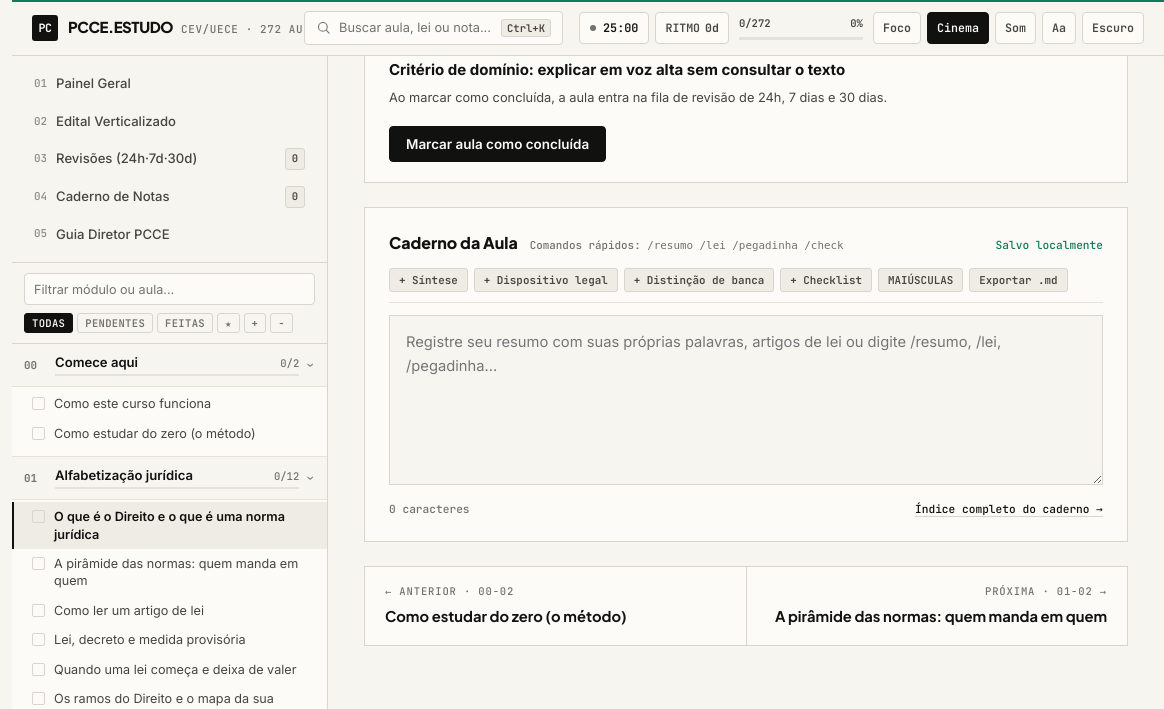
Test case: Tela de aula › expande comando rápido no caderno e salva a nota
(page scrolled)
Replace the text in the text box named "Anotações da aula" with "Ideia /check ". click: (746, 400)
box: [389,315,1103,485]
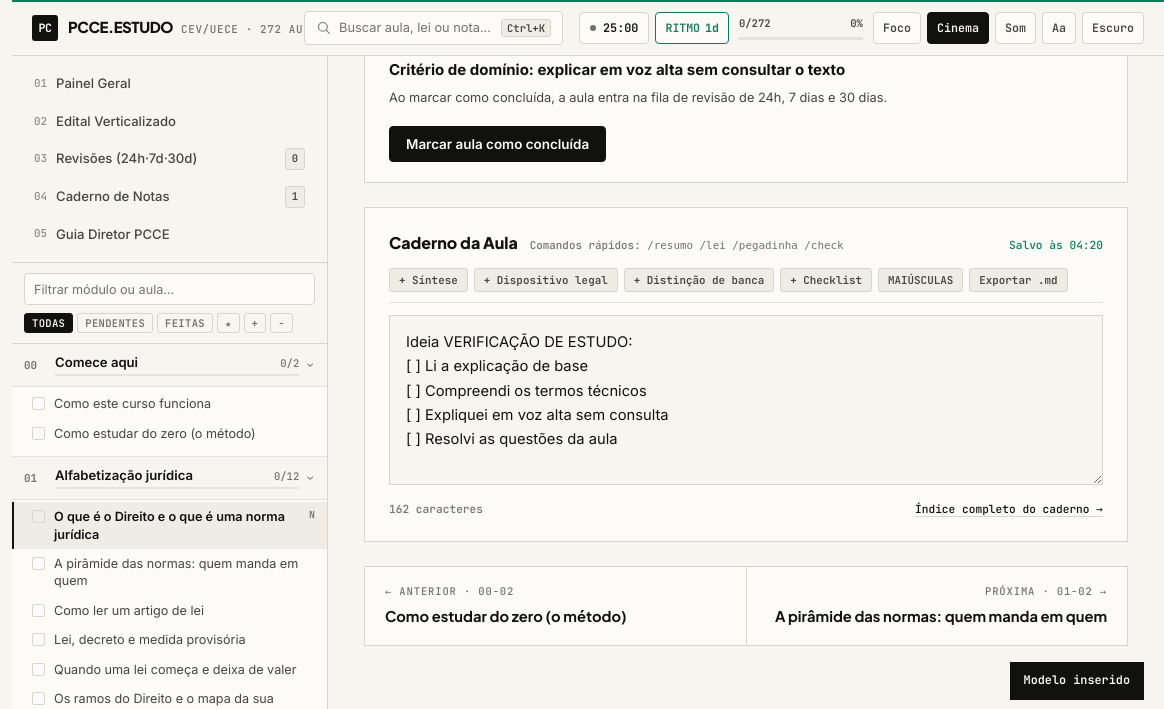
Check: the text "Salvo às 04:20" is shown, box [1009,236,1103,254]
